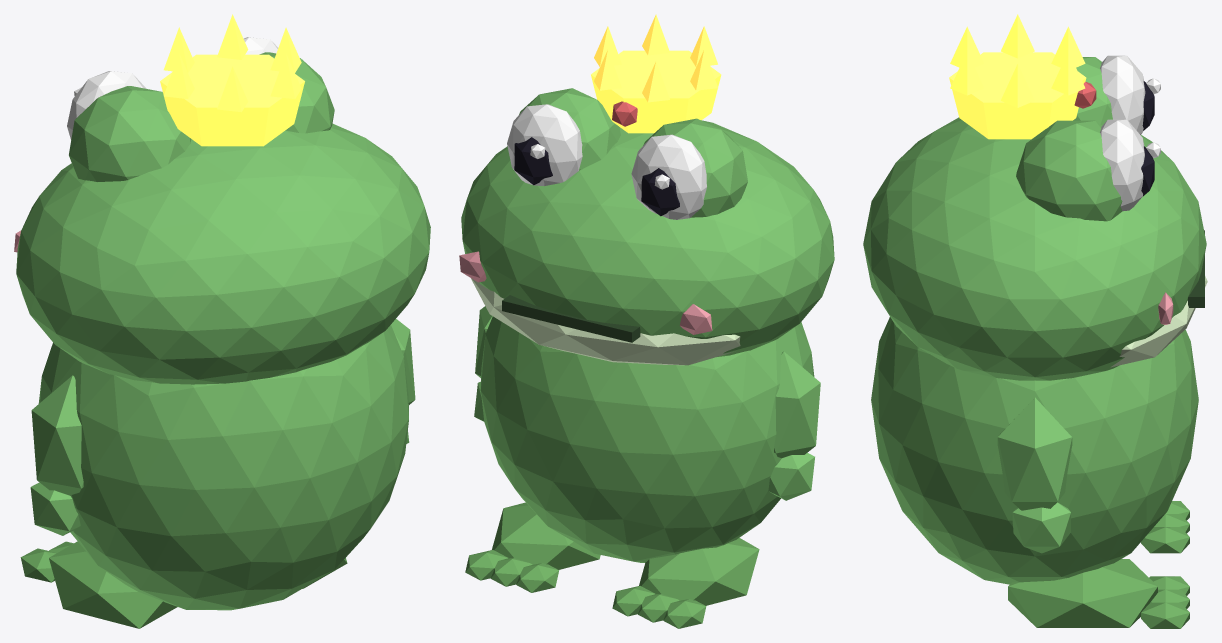
File: quaki.glb
3 views of the same model, side by side, from view 1: azimuth 30°, elevation 25°; view 2: azimuth 150°, elevation 25°; view 3: azimuth 270°, elevation 25° (orthographic). The views are drawn at different scales.
Parts seen in each view (by area): view 1: head__c_7cc56f, body__c_7cc56f, head__glow_f2c94c, armR__c_7cc56f, body__c_6fb262, head__c_ffffff, armL__c_7cc56f; view 2: head__c_7cc56f, body__c_7cc56f, body__c_6fb262, head__glow_f2c94c, head__c_ffffff, head__c_d8efc5, armR__c_7cc56f, head__c_1d1b2a, head__c_2f4a2b, head__c_f3a3b0, armL__c_7cc56f; view 3: head__c_7cc56f, body__c_7cc56f, head__glow_f2c94c, body__c_6fb262, armL__c_7cc56f, head__c_ffffff, head__c_d8efc5, head__c_1d1b2a.
Part boxes in pixels (x1,y1,x2,y2): head__c_7cc56f: [16, 52, 430, 384]; body__c_7cc56f: [38, 325, 408, 610]; head__glow_f2c94c: [160, 14, 304, 146]; armR__c_7cc56f: [30, 375, 83, 535]; body__c_6fb262: [20, 541, 347, 628]; head__c_ffffff: [67, 37, 278, 139]; armL__c_7cc56f: [391, 319, 415, 443]; head__c_7cc56f: [461, 88, 834, 356]; body__c_7cc56f: [480, 316, 814, 562]; body__c_6fb262: [465, 502, 759, 628]; head__glow_f2c94c: [591, 14, 721, 133]; head__c_ffffff: [507, 104, 706, 219]; head__c_d8efc5: [471, 278, 740, 365]; armR__c_7cc56f: [768, 351, 820, 500]; head__c_1d1b2a: [514, 137, 679, 216]; head__c_2f4a2b: [502, 295, 640, 342]; head__c_f3a3b0: [459, 251, 712, 334]; armL__c_7cc56f: [474, 306, 492, 421]; head__c_7cc56f: [863, 57, 1206, 380]; body__c_7cc56f: [871, 317, 1198, 584]; head__glow_f2c94c: [949, 14, 1086, 139]; body__c_6fb262: [1008, 501, 1189, 628]; armL__c_7cc56f: [997, 397, 1072, 553]; head__c_ffffff: [1100, 55, 1160, 211]; head__c_d8efc5: [1110, 276, 1207, 367]; head__c_1d1b2a: [1141, 81, 1154, 196].
Size of the model in its own units: 1.2 by 1.76 by 1.
